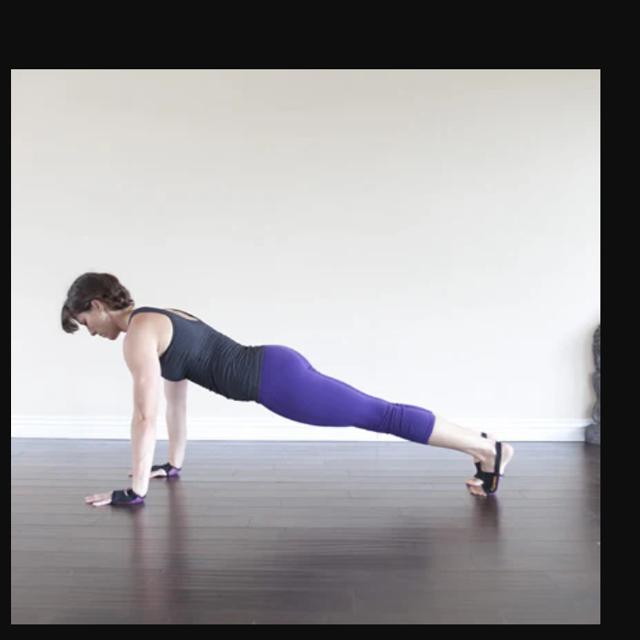Plank_Pose: (55, 266, 513, 526)
